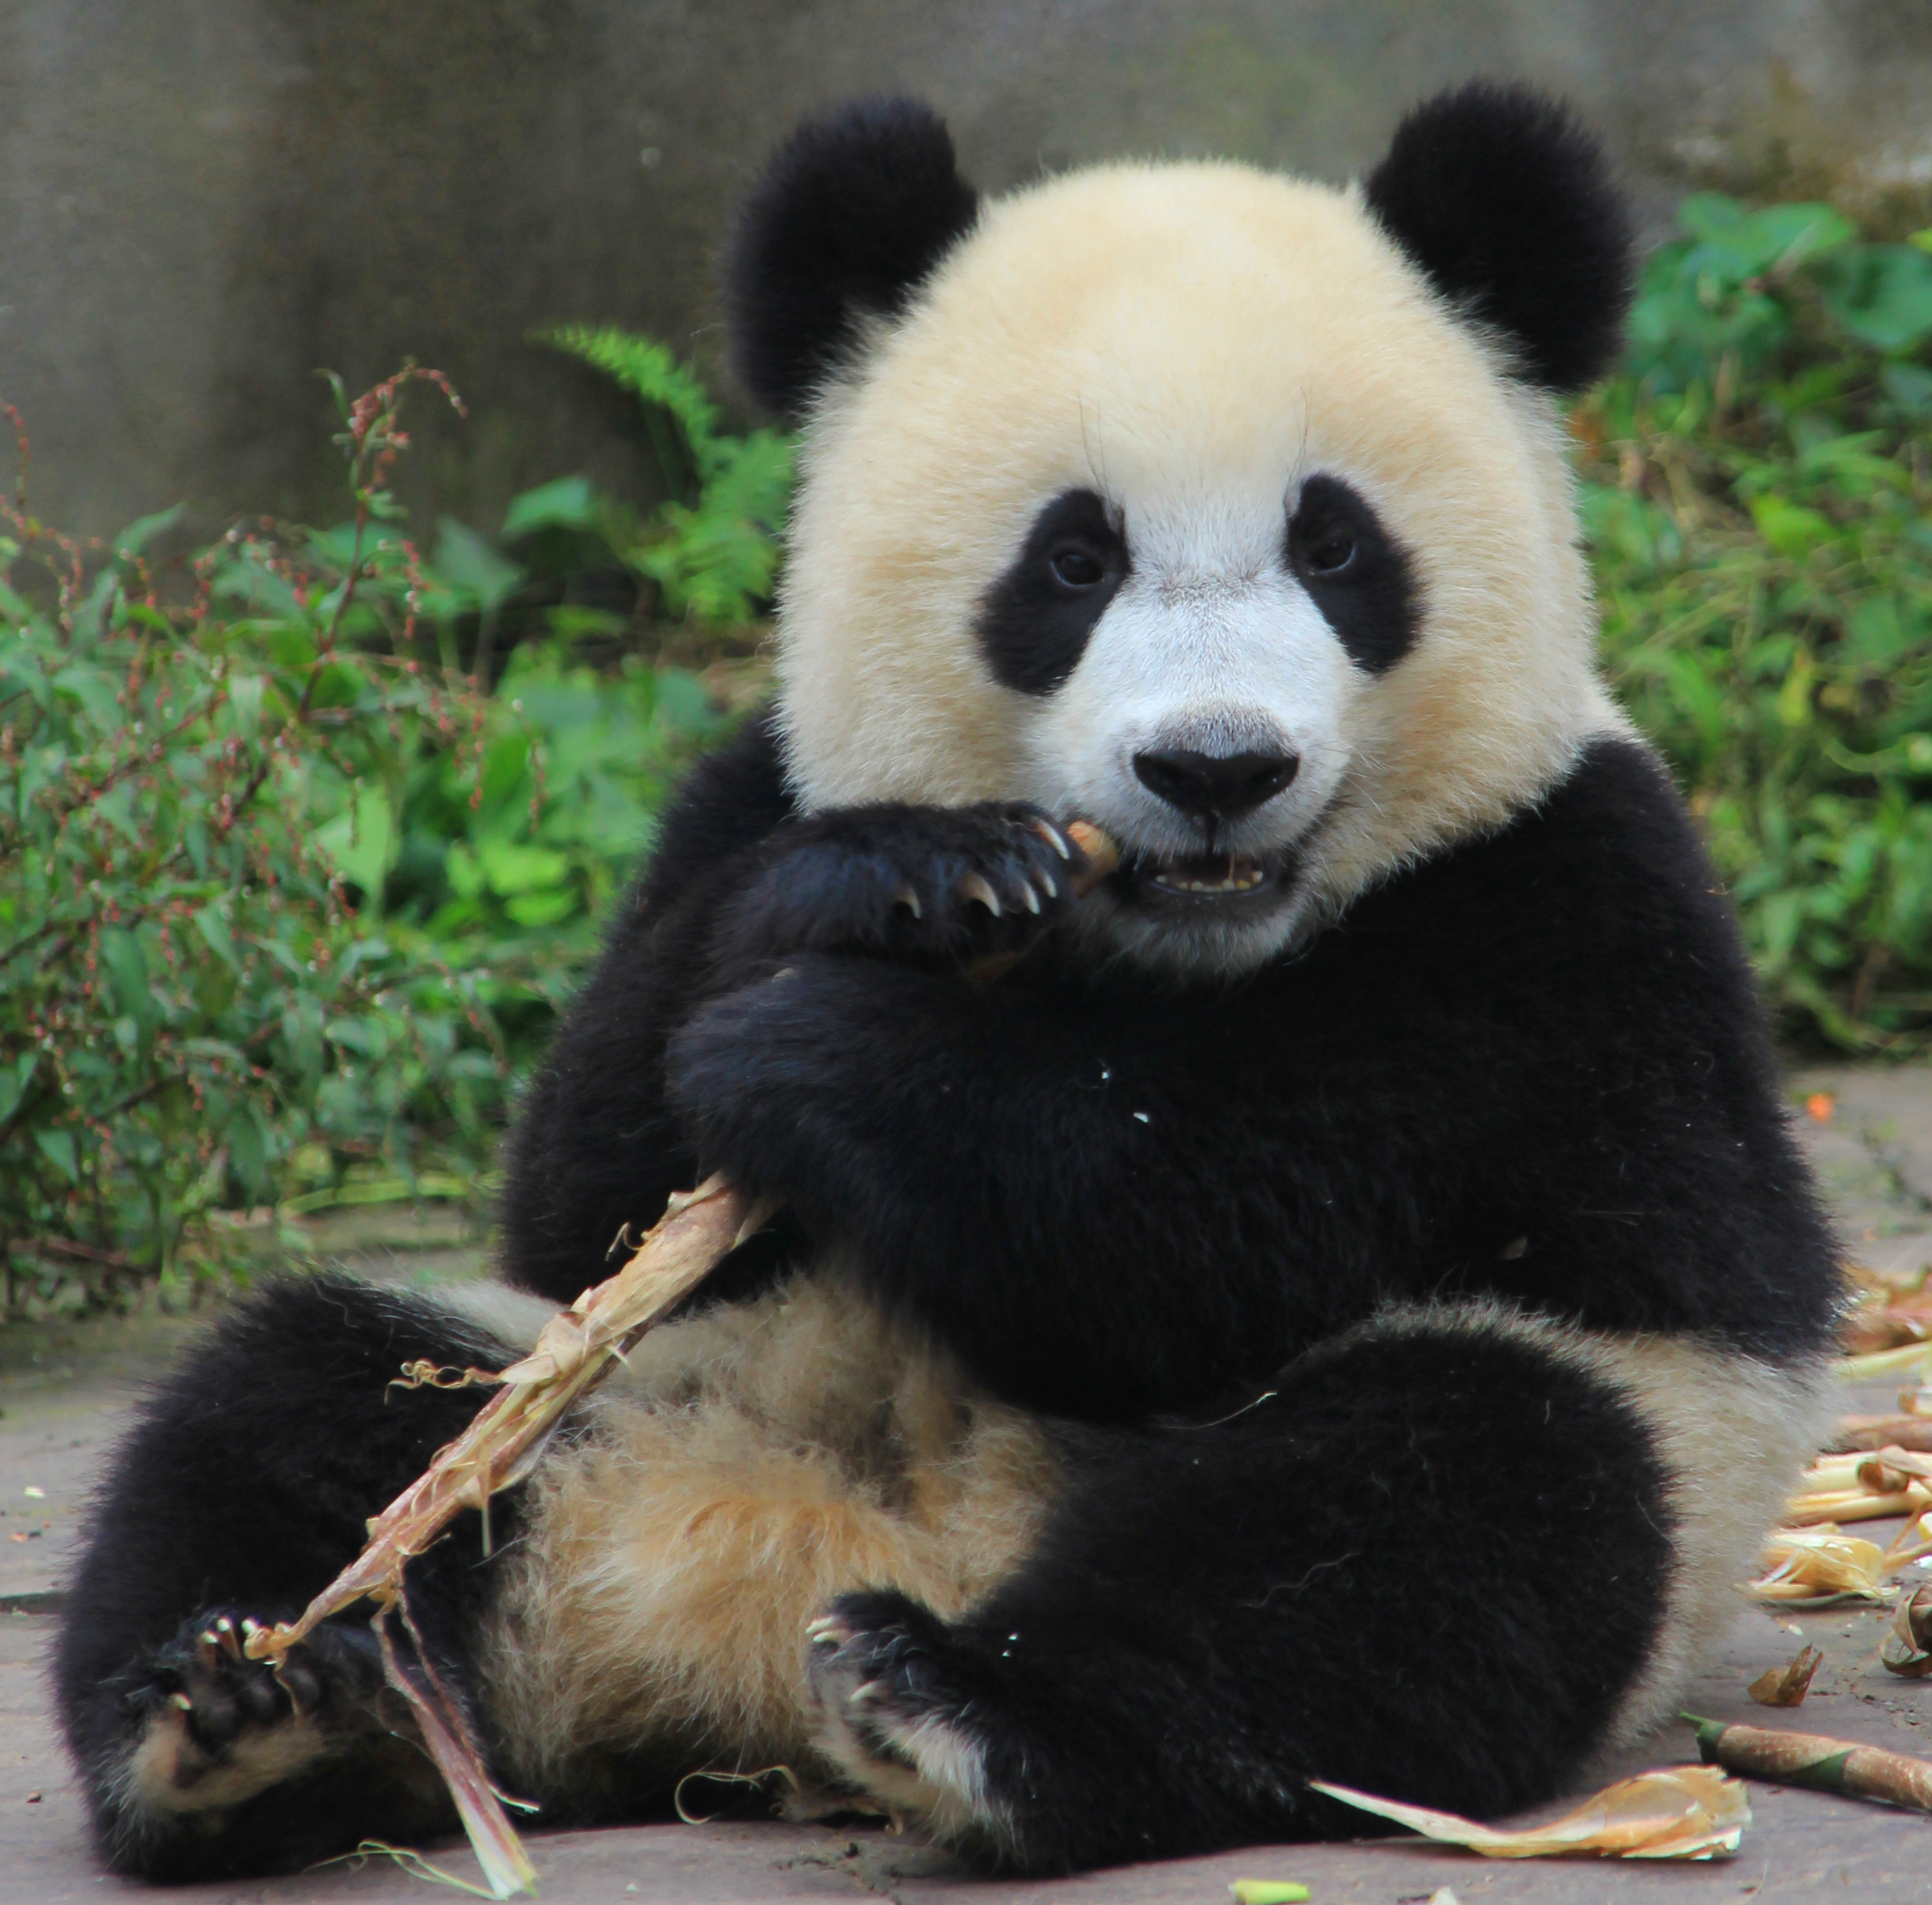panda: (153, 66, 1852, 1847)
